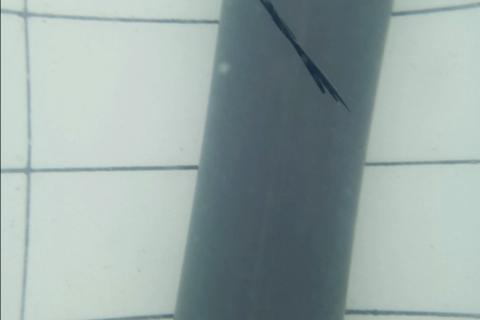keretakan: (259, 0, 350, 114)
